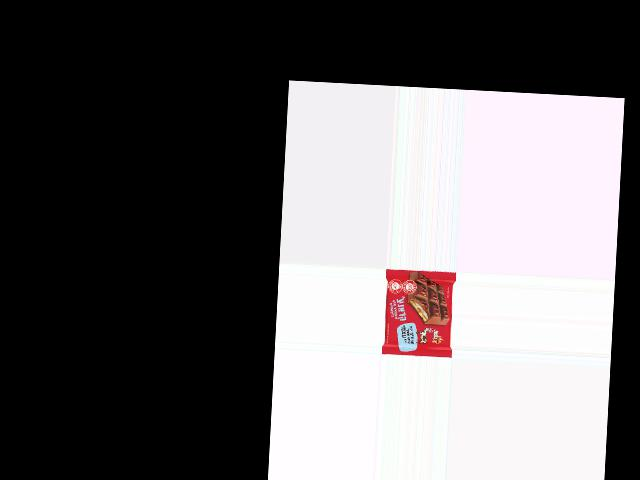chocolate: (381, 269, 455, 355)
